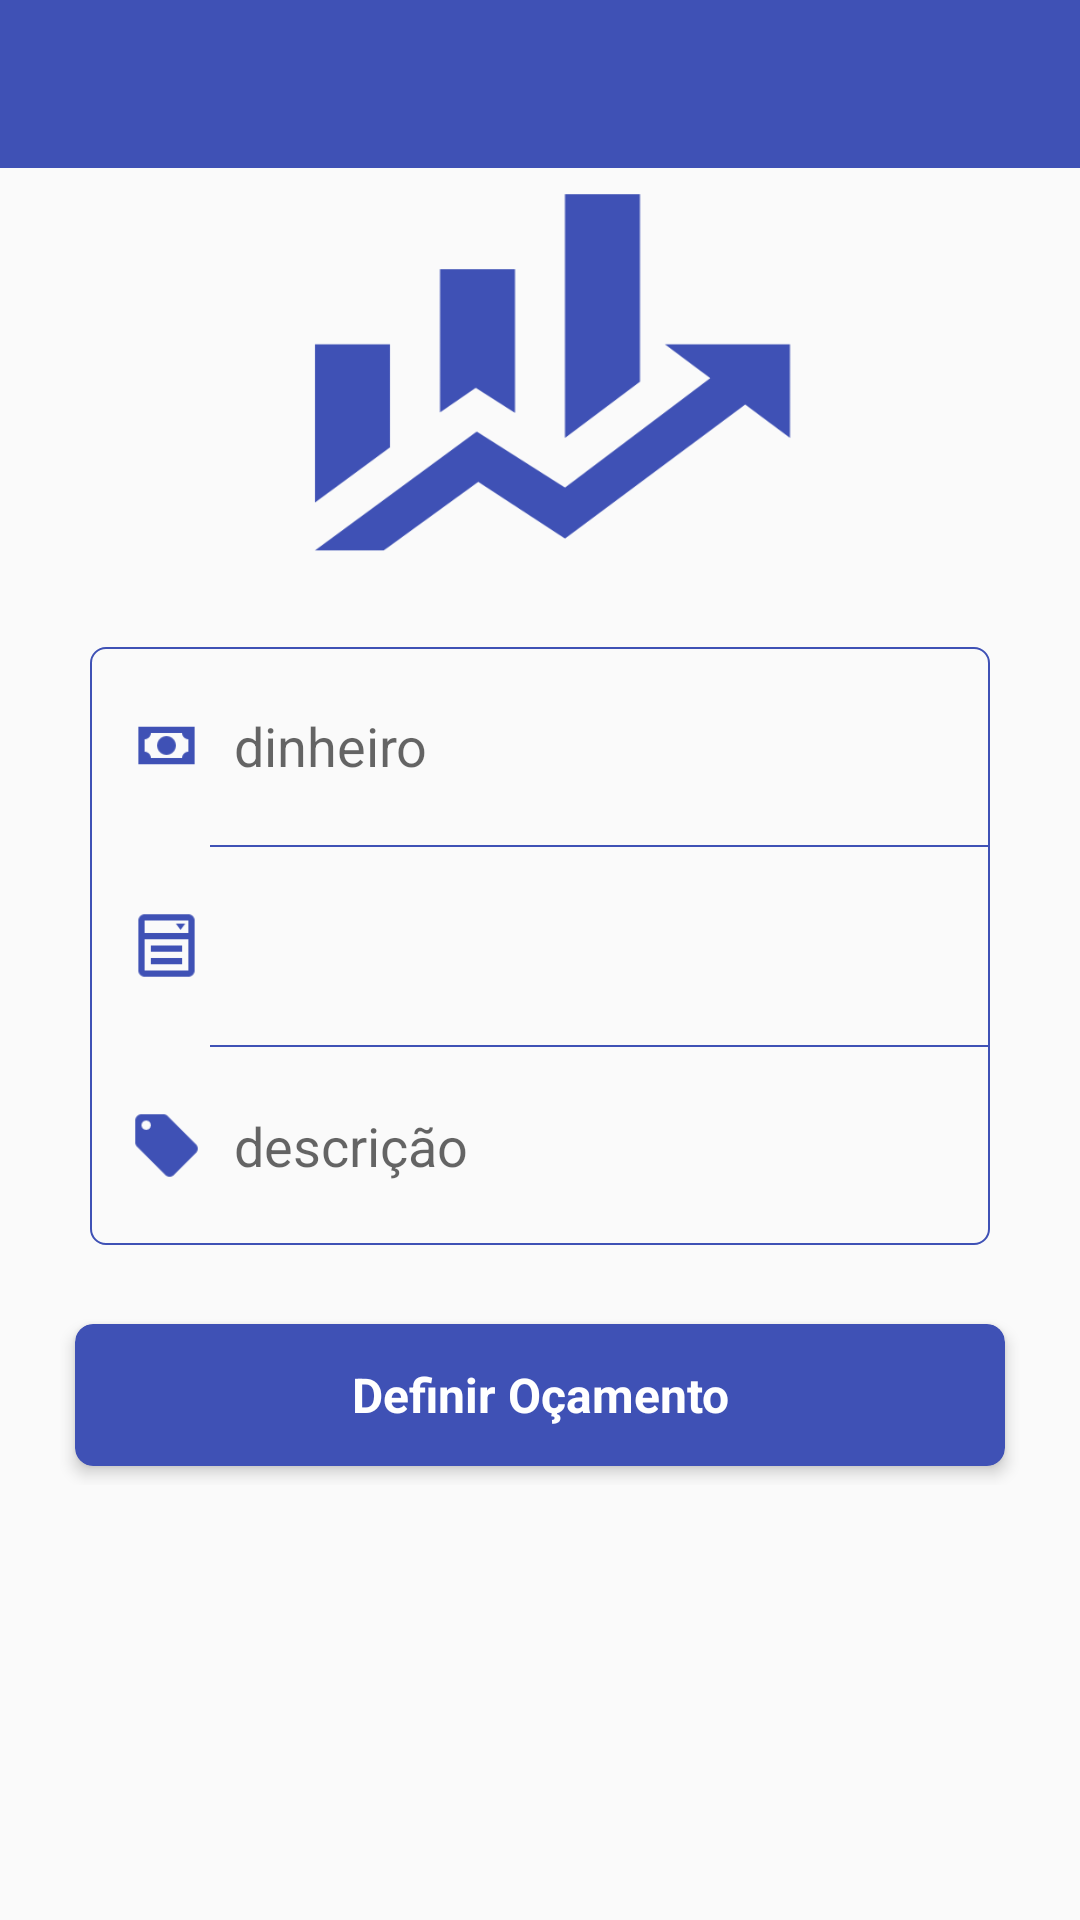

Icons on this 1080w x 1920h Android screen, each with its box as (x1, y1, x2, y2):
cash: (138, 726, 195, 765)
form select: (138, 914, 195, 977)
tag: (135, 1114, 198, 1177)
